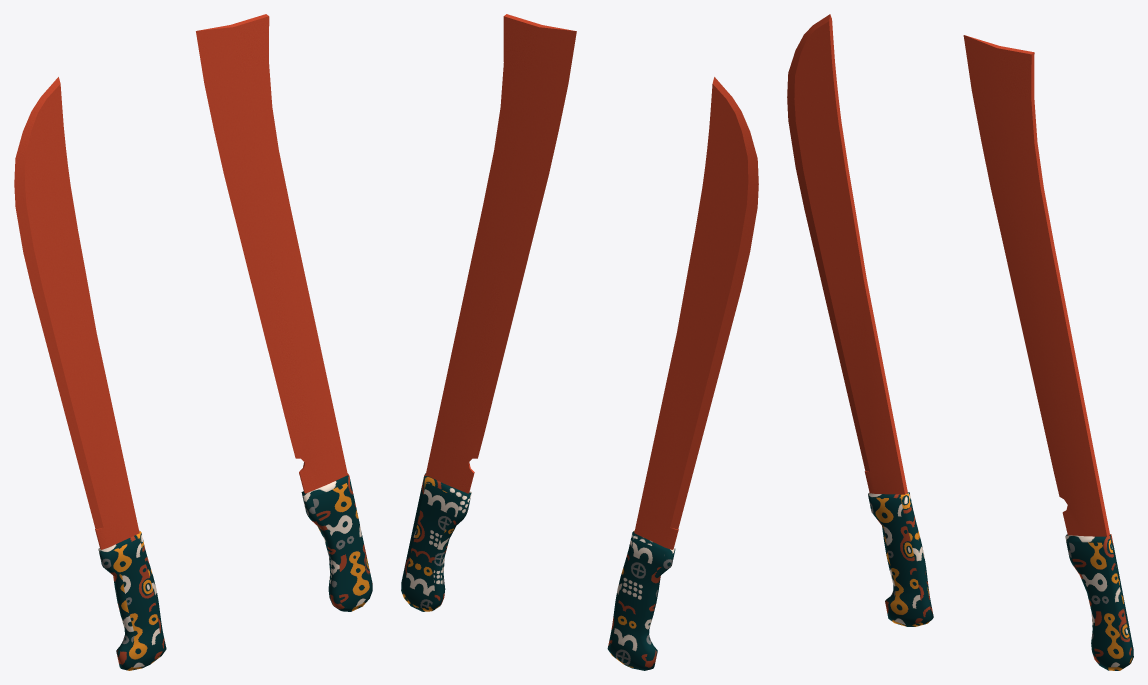
Rendered from Blades.fbx.
3 renders of one model, left to right at view 1: azimuth 30°, elevation 25°; view 2: azimuth 150°, elevation 25°; view 3: azimuth 330°, elevation 25°, orthographic. The views are drawn at different scales.
Parts seen in each view (by area): view 1: polySurface4, polySurface2, polySurface3, polySurface1; view 2: polySurface4, polySurface2, polySurface3, polySurface1; view 3: polySurface4, polySurface2, polySurface3, polySurface1.
Part boxes in pixels (x1,y1,x2,y2): polySurface4: [196, 14, 347, 493]; polySurface2: [14, 77, 139, 549]; polySurface3: [301, 473, 372, 611]; polySurface1: [98, 530, 166, 670]; polySurface4: [425, 14, 576, 493]; polySurface2: [634, 77, 758, 549]; polySurface3: [401, 473, 471, 611]; polySurface1: [607, 530, 675, 670]; polySurface4: [963, 35, 1109, 536]; polySurface2: [787, 14, 907, 494]; polySurface3: [1065, 534, 1133, 670]; polySurface1: [868, 492, 933, 626].
Size of the model in its own units: 110 by 184 by 3.99.
